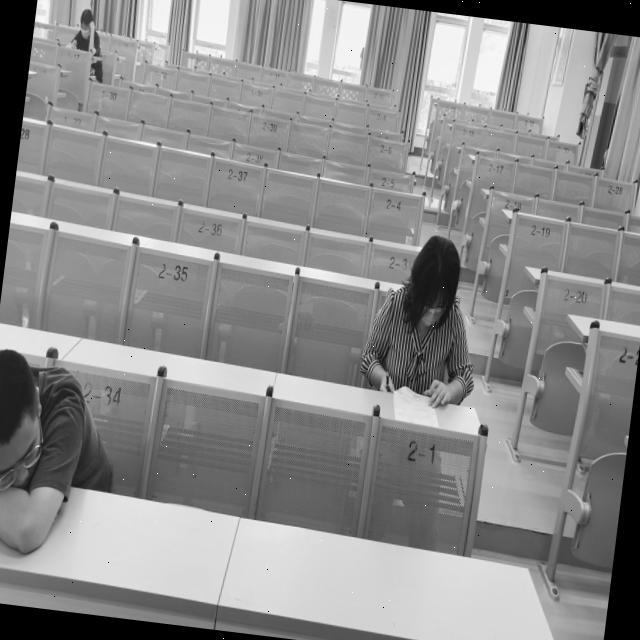sleep: (0, 346, 86, 555)
study: (359, 231, 492, 408), (69, 5, 105, 54)
